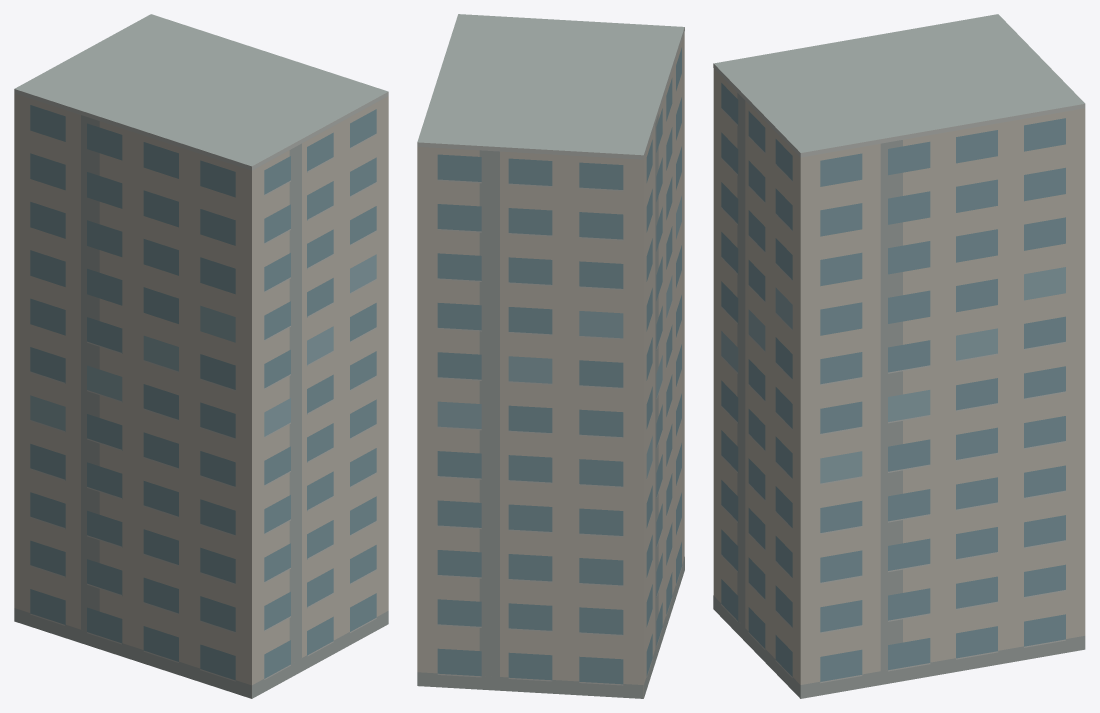
Rendered from residential-03ddfc73-8793-4f8e-83ee-3ade0e7d0338.glb.
3 views of the same model, side by side, from view 1: azimuth 30°, elevation 25°; view 2: azimuth 150°, elevation 25°; view 3: azimuth 270°, elevation 25° (orthographic). The views are drawn at different scales.
Parts seen in each view (by area): view 1: residential-03ddfc73-8793-4f8e-83ee-3ade0e7d0338.tmp; view 2: residential-03ddfc73-8793-4f8e-83ee-3ade0e7d0338.tmp; view 3: residential-03ddfc73-8793-4f8e-83ee-3ade0e7d0338.tmp.
Boxes of the visible parts, x1,y1,x2,y2 form: residential-03ddfc73-8793-4f8e-83ee-3ade0e7d0338.tmp: (14,14,388,698); residential-03ddfc73-8793-4f8e-83ee-3ade0e7d0338.tmp: (417,14,684,698); residential-03ddfc73-8793-4f8e-83ee-3ade0e7d0338.tmp: (713,14,1085,698).
Size of the model in its own units: 16.41 by 30 by 18.53.
